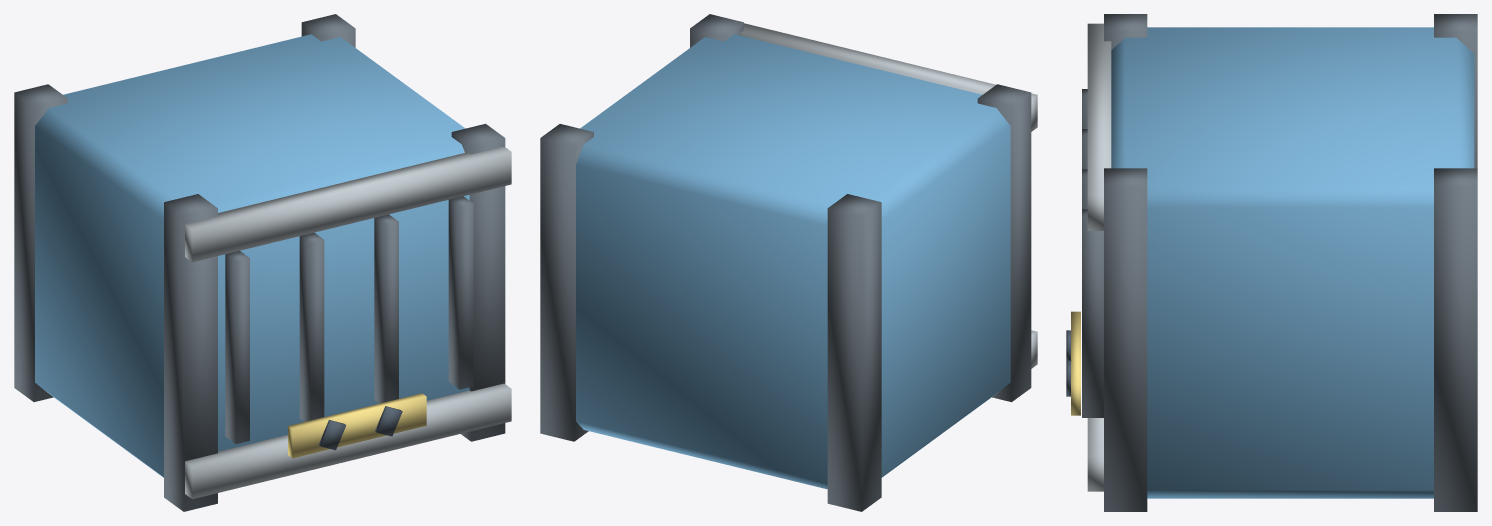
File: supply_box_enhanced.glb
3 views of the same model, side by side, from view 1: azimuth 30°, elevation 25°; view 2: azimuth 150°, elevation 25°; view 3: azimuth 270°, elevation 25° (orthographic). The views are drawn at different scales.
Parts seen in each view (by area): view 1: Container_blue, Frame_dark, Frame_steel, Ribs_dark, Detail_yellow, Detail_black; view 2: Container_blue, Frame_dark, Frame_steel; view 3: Container_blue, Frame_dark, Frame_steel, Ribs_dark, Detail_yellow.
Part boxes in pixels (x1=…): Container_blue: x1=35, y1=34, x2=469, y2=477; Frame_dark: x1=14, y1=14, x2=505, y2=511; Frame_steel: x1=185, y1=146, x2=511, y2=499; Ribs_dark: x1=225, y1=196, x2=473, y2=443; Detail_yellow: x1=288, y1=393, x2=426, y2=458; Detail_black: x1=318, y1=406, x2=402, y2=450; Container_blue: x1=576, y1=34, x2=1010, y2=489; Frame_dark: x1=540, y1=14, x2=1031, y2=511; Frame_steel: x1=740, y1=23, x2=1037, y2=368; Container_blue: x1=1111, y1=27, x2=1474, y2=498; Frame_dark: x1=1104, y1=14, x2=1477, y2=511; Frame_steel: x1=1087, y1=23, x2=1111, y2=491; Ribs_dark: x1=1082, y1=89, x2=1103, y2=417; Detail_yellow: x1=1071, y1=311, x2=1080, y2=415.
Size of the model in its own units: 1.04 by 0.91 by 1.04.
